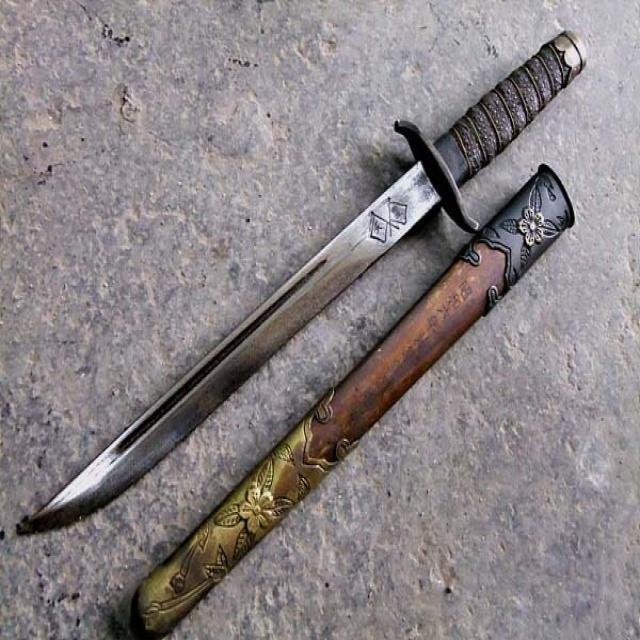short sword: (19, 27, 590, 640)
